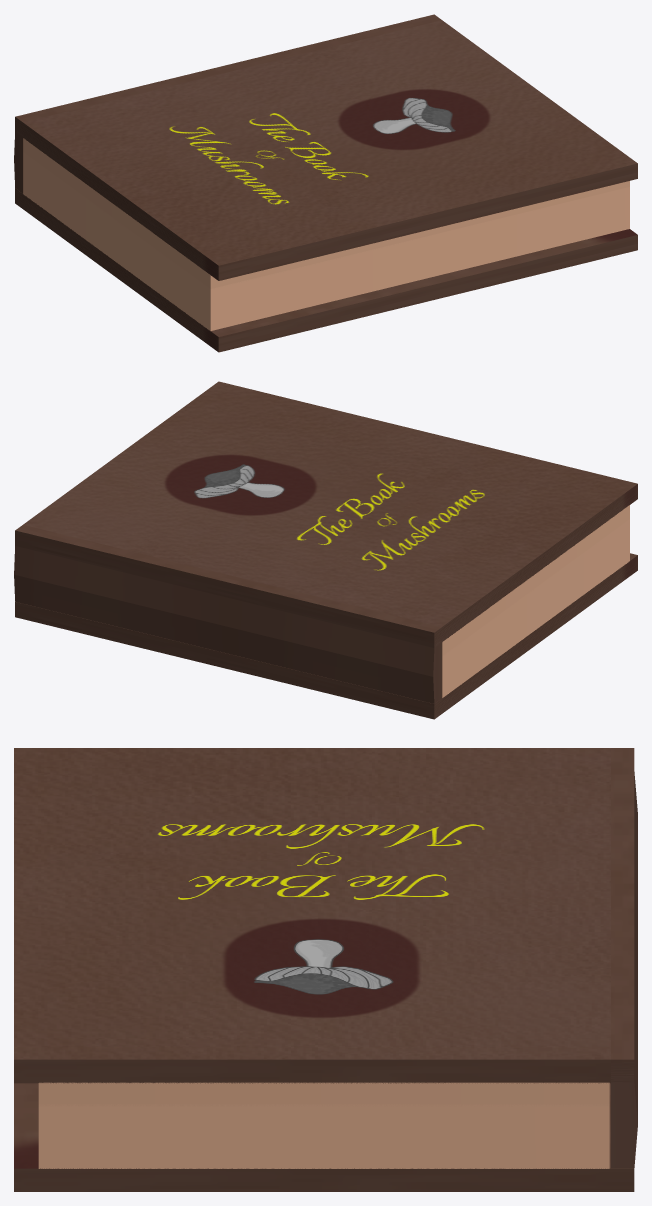
File: ClosedBook.fbx
3 views of the same model, one above another, from view 1: azimuth 30°, elevation 25°; view 2: azimuth 150°, elevation 25°; view 3: azimuth 270°, elevation 25° (orthographic). The views are drawn at different scales.
Parts seen in each view (by area): view 1: Cube.002, Cube, Cube.003, Cube.001; view 2: Cube.002, Cube.003, Cube, Cube.001; view 3: Cube.002, Cube, Cube.003, Cube.001.
Part boxes in pixels (x1,y1,x2,y2): Cube.002: [14, 14, 637, 280]; Cube: [23, 152, 629, 331]; Cube.003: [15, 188, 637, 352]; Cube.001: [23, 138, 629, 289]; Cube.002: [14, 381, 637, 703]; Cube.003: [15, 553, 637, 719]; Cube: [442, 519, 629, 697]; Cube.001: [442, 505, 629, 656]; Cube.002: [14, 748, 637, 1168]; Cube: [38, 1104, 609, 1168]; Cube.003: [14, 1083, 634, 1191]; Cube.001: [38, 1082, 609, 1106].
Size of the model in its own units: 200 by 39.57 by 169.
3 materials, 3 textured.
